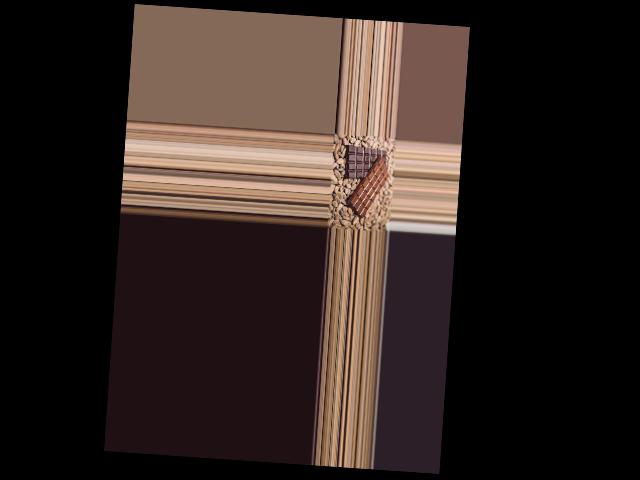chocolate: (341, 140, 389, 181)
